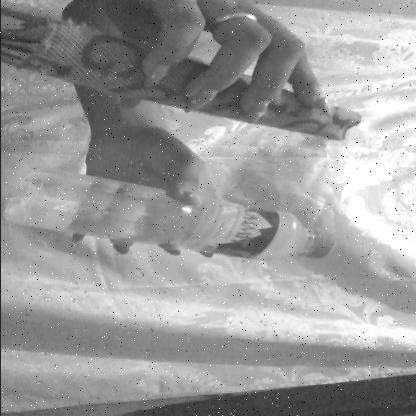Plastic Bottle: (0, 171, 350, 279)
